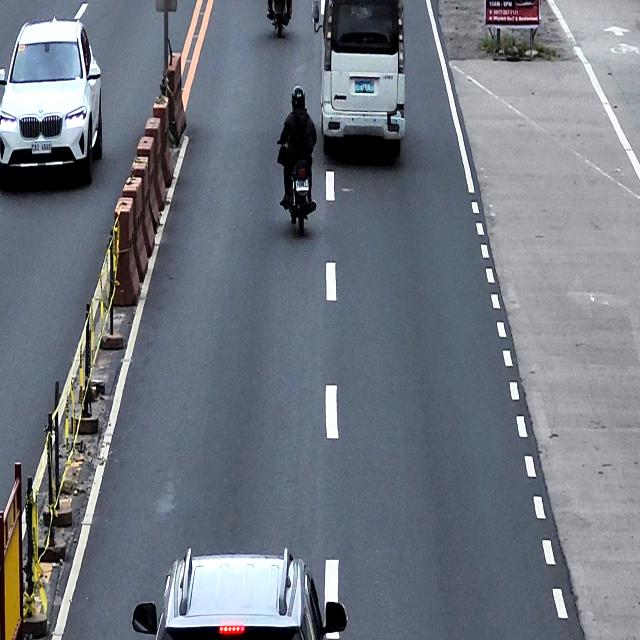Car: (132, 546, 348, 640), (0, 8, 103, 184), (311, 0, 405, 153)
License-Plate: (354, 78, 375, 95), (30, 140, 53, 155), (295, 177, 310, 192)
Motorcycle: (276, 137, 316, 236)
